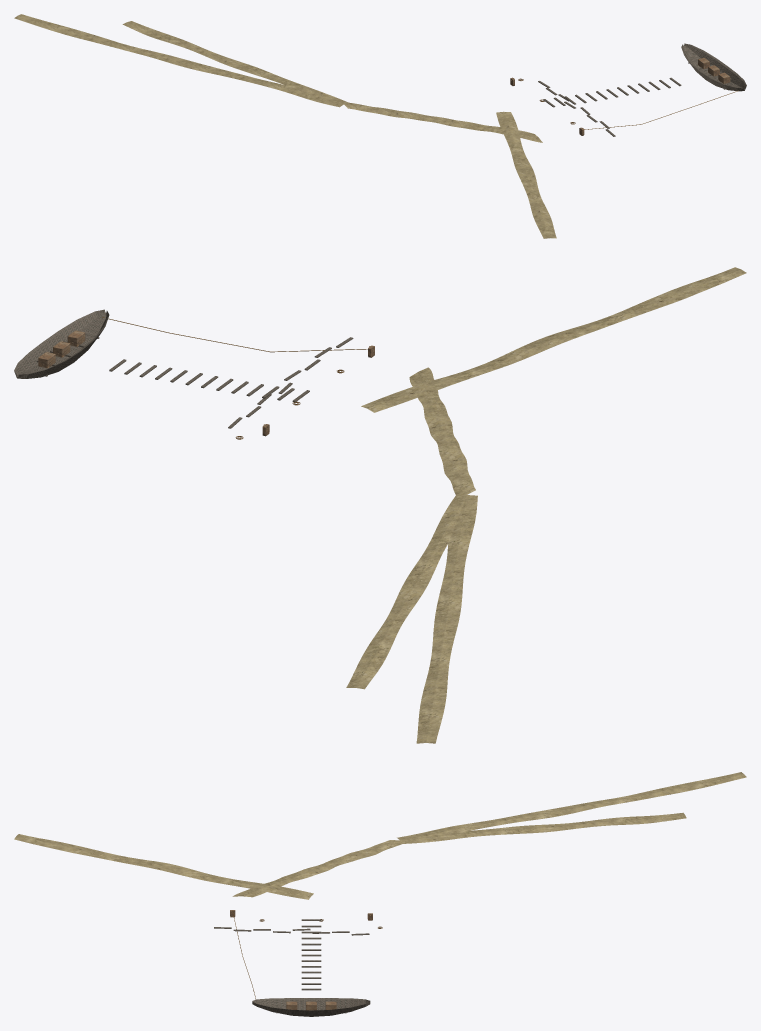
File: harbour.glb
3 views of the same model, one above another, from view 1: azimuth 30°, elevation 25°; view 2: azimuth 150°, elevation 25°; view 3: azimuth 270°, elevation 25° (orthographic). The views are drawn at different scales.
Visible parts, largest first — view 1: Secondary worn-earth path.002, Secondary worn-earth path, Secondary worn-earth path.001, Worn earthen connection, Working hull | conjectural; view 2: Secondary worn-earth path.002, Secondary worn-earth path, Secondary worn-earth path.001, Worn earthen connection, Working hull | conjectural; view 3: Secondary worn-earth path.002, Secondary worn-earth path, Secondary worn-earth path.001, Working hull | conjectural, Worn earthen connection.
Part boxes in pixels (box(x1,y1,x2,y2)): Secondary worn-earth path.002: box(14, 14, 344, 107); Secondary worn-earth path: box(496, 111, 556, 238); Secondary worn-earth path.001: box(122, 21, 348, 103); Worn earthen connection: box(344, 102, 542, 142); Working hull | conjectural: box(681, 43, 746, 91); Secondary worn-earth path.002: box(416, 495, 477, 743); Secondary worn-earth path: box(361, 267, 746, 412); Secondary worn-earth path.001: box(346, 495, 466, 689); Worn earthen connection: box(409, 367, 475, 494); Working hull | conjectural: box(14, 309, 109, 378); Secondary worn-earth path.002: box(397, 772, 746, 840); Secondary worn-earth path: box(14, 834, 313, 899); Secondary worn-earth path.001: box(400, 812, 686, 843); Working hull | conjectural: box(252, 998, 370, 1016); Worn earthen connection: box(232, 840, 401, 897).
Size of the model in its own units: 56.09 by 3.05 by 74.53.
5 materials, 5 textured.
